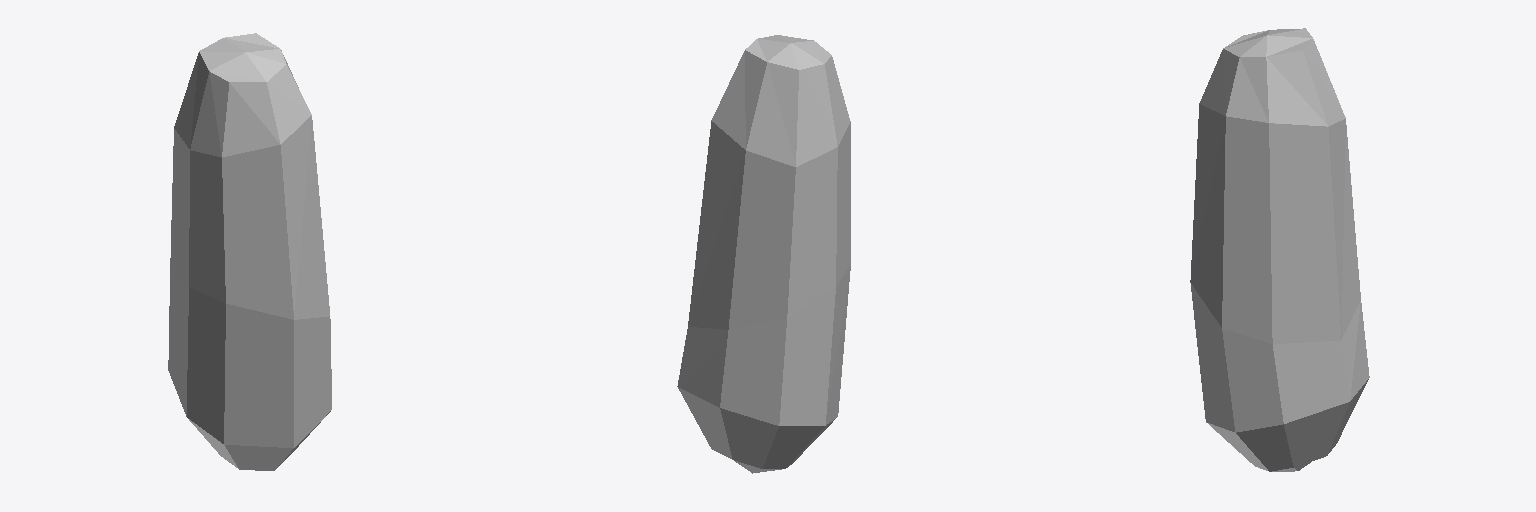
The model's file is belpharm.obj.
3 views of the same model, side by side, from view 1: azimuth 30°, elevation 25°; view 2: azimuth 150°, elevation 25°; view 3: azimuth 270°, elevation 25° (orthographic).
Visible parts, largest first — view 1: belpharm; view 2: belpharm; view 3: belpharm.
Part boxes in pixels (x1,y1,x2,y2): belpharm: (168,33,331,470); belpharm: (677,35,850,473); belpharm: (1190,28,1369,471).
Size of the model in its own units: 0.1158 by 0.3466 by 0.1326.